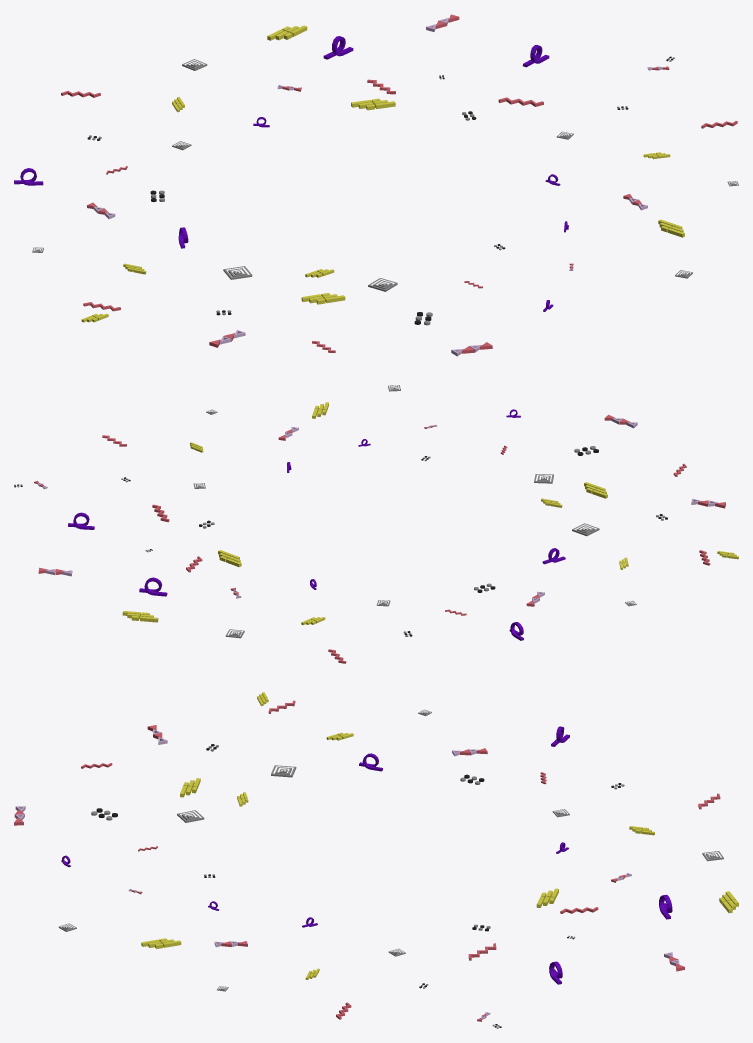
The model's file is instances.glb.
The picture shows the model from 3 angles, top to bottom: view 1: azimuth 30°, elevation 25°; view 2: azimuth 150°, elevation 25°; view 3: azimuth 270°, elevation 25°; orthographic projection. The views are drawn at different scales.
Size of the model in its own units: 8.98 by 0.2106 by 8.23.
